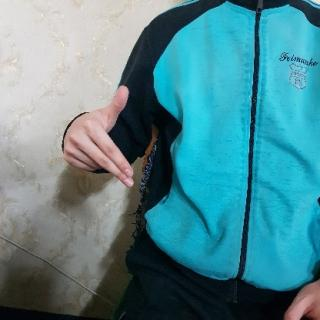GHAYN: (58, 84, 149, 191)
